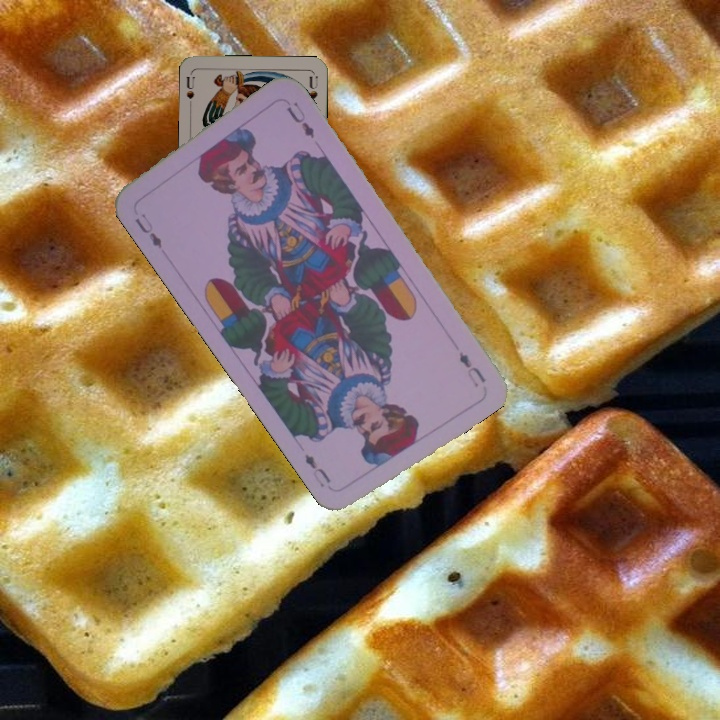EU: (454, 347, 489, 389), (131, 209, 165, 252)
SU: (182, 70, 197, 102)
